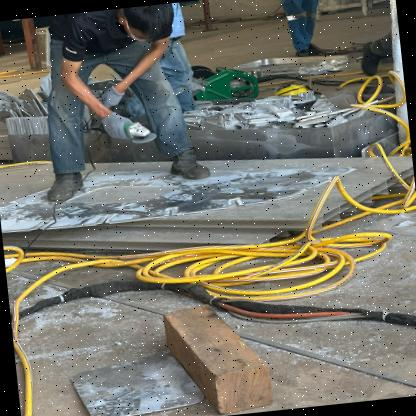bota: (166, 141, 212, 181), (40, 163, 86, 202), (298, 40, 332, 61)
